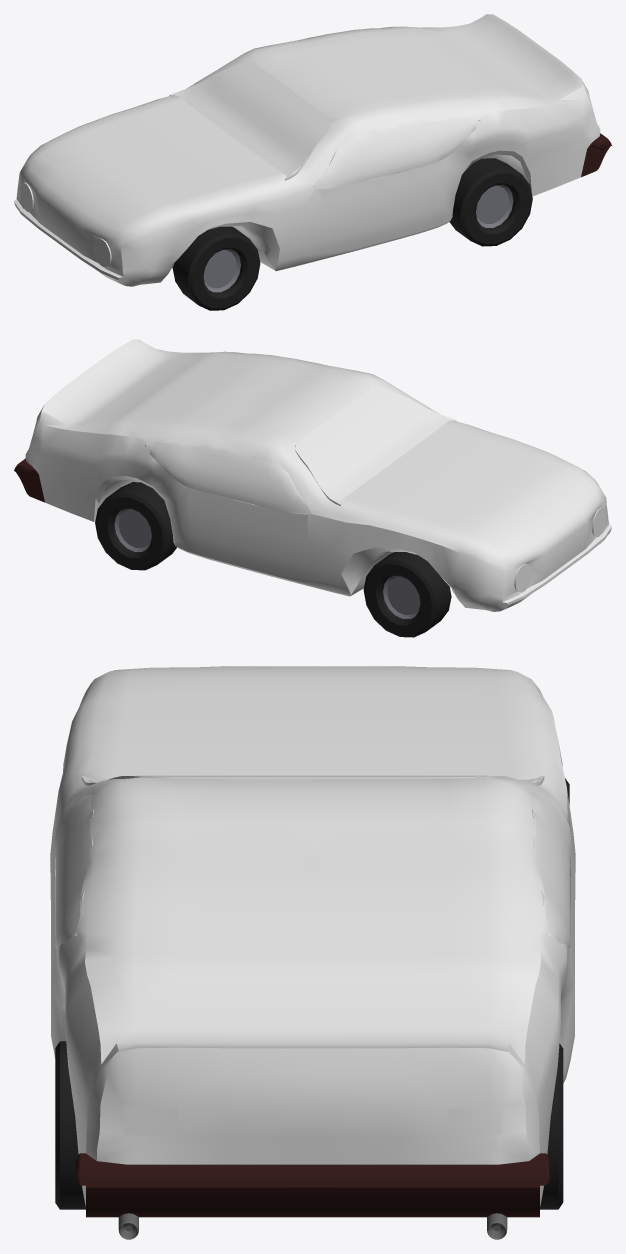
The model's file is 80s Car.dae.
3 renders of one model, top to bottom at view 1: azimuth 30°, elevation 25°; view 2: azimuth 150°, elevation 25°; view 3: azimuth 270°, elevation 25°, orthographic. The views are drawn at different scales.
Parts seen in each view (by area): view 1: Body, Window Front, Windows Side Veiw, Back Wheels, Front Wheels, Body.001, Cube; view 2: Body, Window Front, Windows Side Veiw, Front Wheels, Back Wheels, Body.001, Cube; view 3: Body, Cube, Windows Side Veiw, Back Wheels, Window Front, Body.002.
Part boxes in pixels (x1=…): Body: x1=14, y1=14, x2=600, y2=286; Window Front: x1=169, y1=62, x2=330, y2=180; Windows Side Veiw: x1=314, y1=116, x2=480, y2=189; Back Wheels: x1=449, y1=158, x2=532, y2=246; Front Wheels: x1=172, y1=226, x2=260, y2=310; Body.001: x1=20, y1=182, x2=111, y2=267; Cube: x1=581, y1=133, x2=611, y2=177; Body: x1=25, y1=339, x2=611, y2=611; Window Front: x1=295, y1=387, x2=456, y2=505; Windows Side Veiw: x1=145, y1=442, x2=311, y2=514; Front Wheels: x1=363, y1=552, x2=451, y2=637; Back Wheels: x1=95, y1=482, x2=176, y2=570; Body.001: x1=514, y1=507, x2=605, y2=592; Cube: x1=14, y1=458, x2=44, y2=502; Body: x1=50, y1=666, x2=575, y2=1206; Cube: x1=76, y1=1153, x2=549, y2=1217; Windows Side Veiw: x1=55, y1=794, x2=570, y2=947; Back Wheels: x1=55, y1=1041, x2=563, y2=1209; Window Front: x1=81, y1=775, x2=544, y2=785; Body.002: x1=118, y1=1213, x2=507, y2=1239.
Size of the model in its own units: 3.51 by 1.62 by 1.
